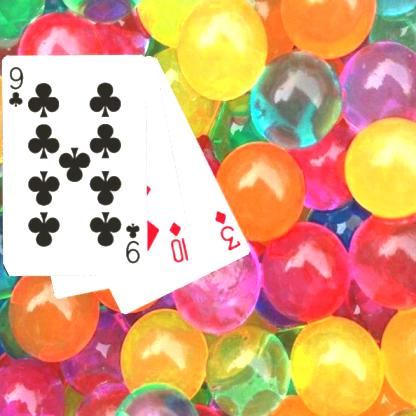10D: (166, 220, 190, 264)
3D: (212, 208, 243, 252)
9C: (123, 220, 142, 265), (6, 63, 25, 108)
